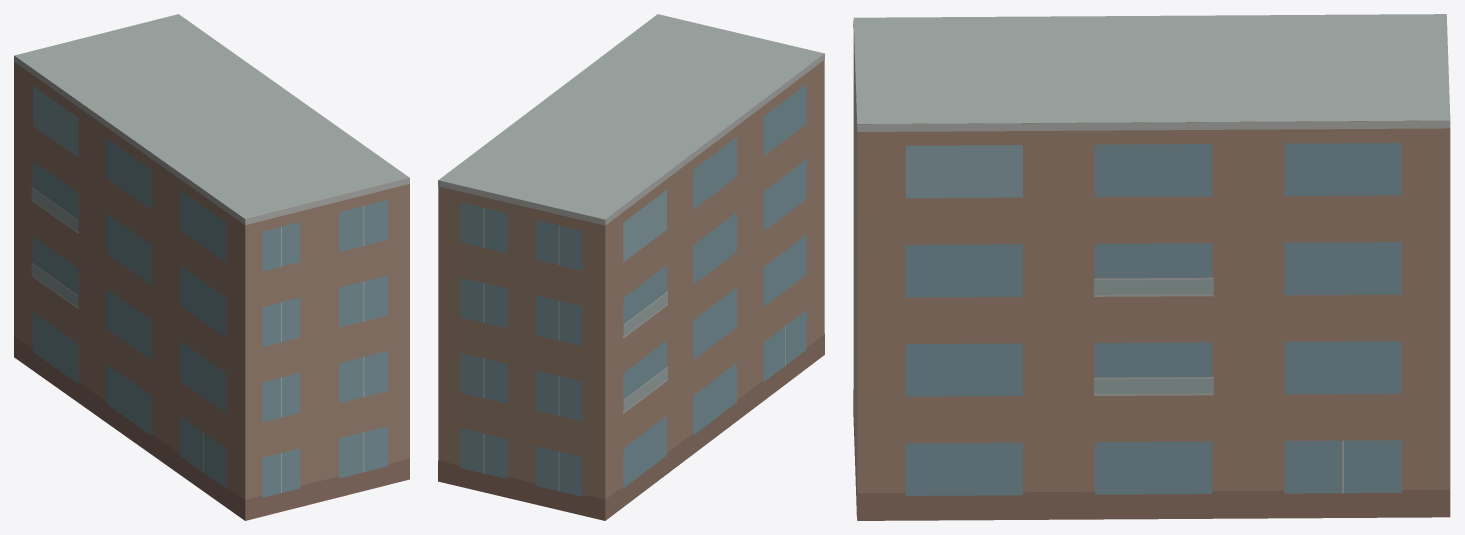
Rendered from residential-86cf1484-f56a-4621-8707-f88fd30523d3.glb.
3 renders of one model, left to right at view 1: azimuth 30°, elevation 25°; view 2: azimuth 150°, elevation 25°; view 3: azimuth 270°, elevation 25°, orthographic. The views are drawn at different scales.
Visible parts, largest first — view 1: residential-86cf1484-f56a-4621-8707-f88fd30523d3.tmp; view 2: residential-86cf1484-f56a-4621-8707-f88fd30523d3.tmp; view 3: residential-86cf1484-f56a-4621-8707-f88fd30523d3.tmp.
Part boxes in pixels (x1,y1,x2,y2): residential-86cf1484-f56a-4621-8707-f88fd30523d3.tmp: [14, 14, 409, 520]; residential-86cf1484-f56a-4621-8707-f88fd30523d3.tmp: [438, 14, 824, 520]; residential-86cf1484-f56a-4621-8707-f88fd30523d3.tmp: [853, 14, 1450, 520].
Bounding box in the file's own units: 7.29 × 12.2 × 16.64.
